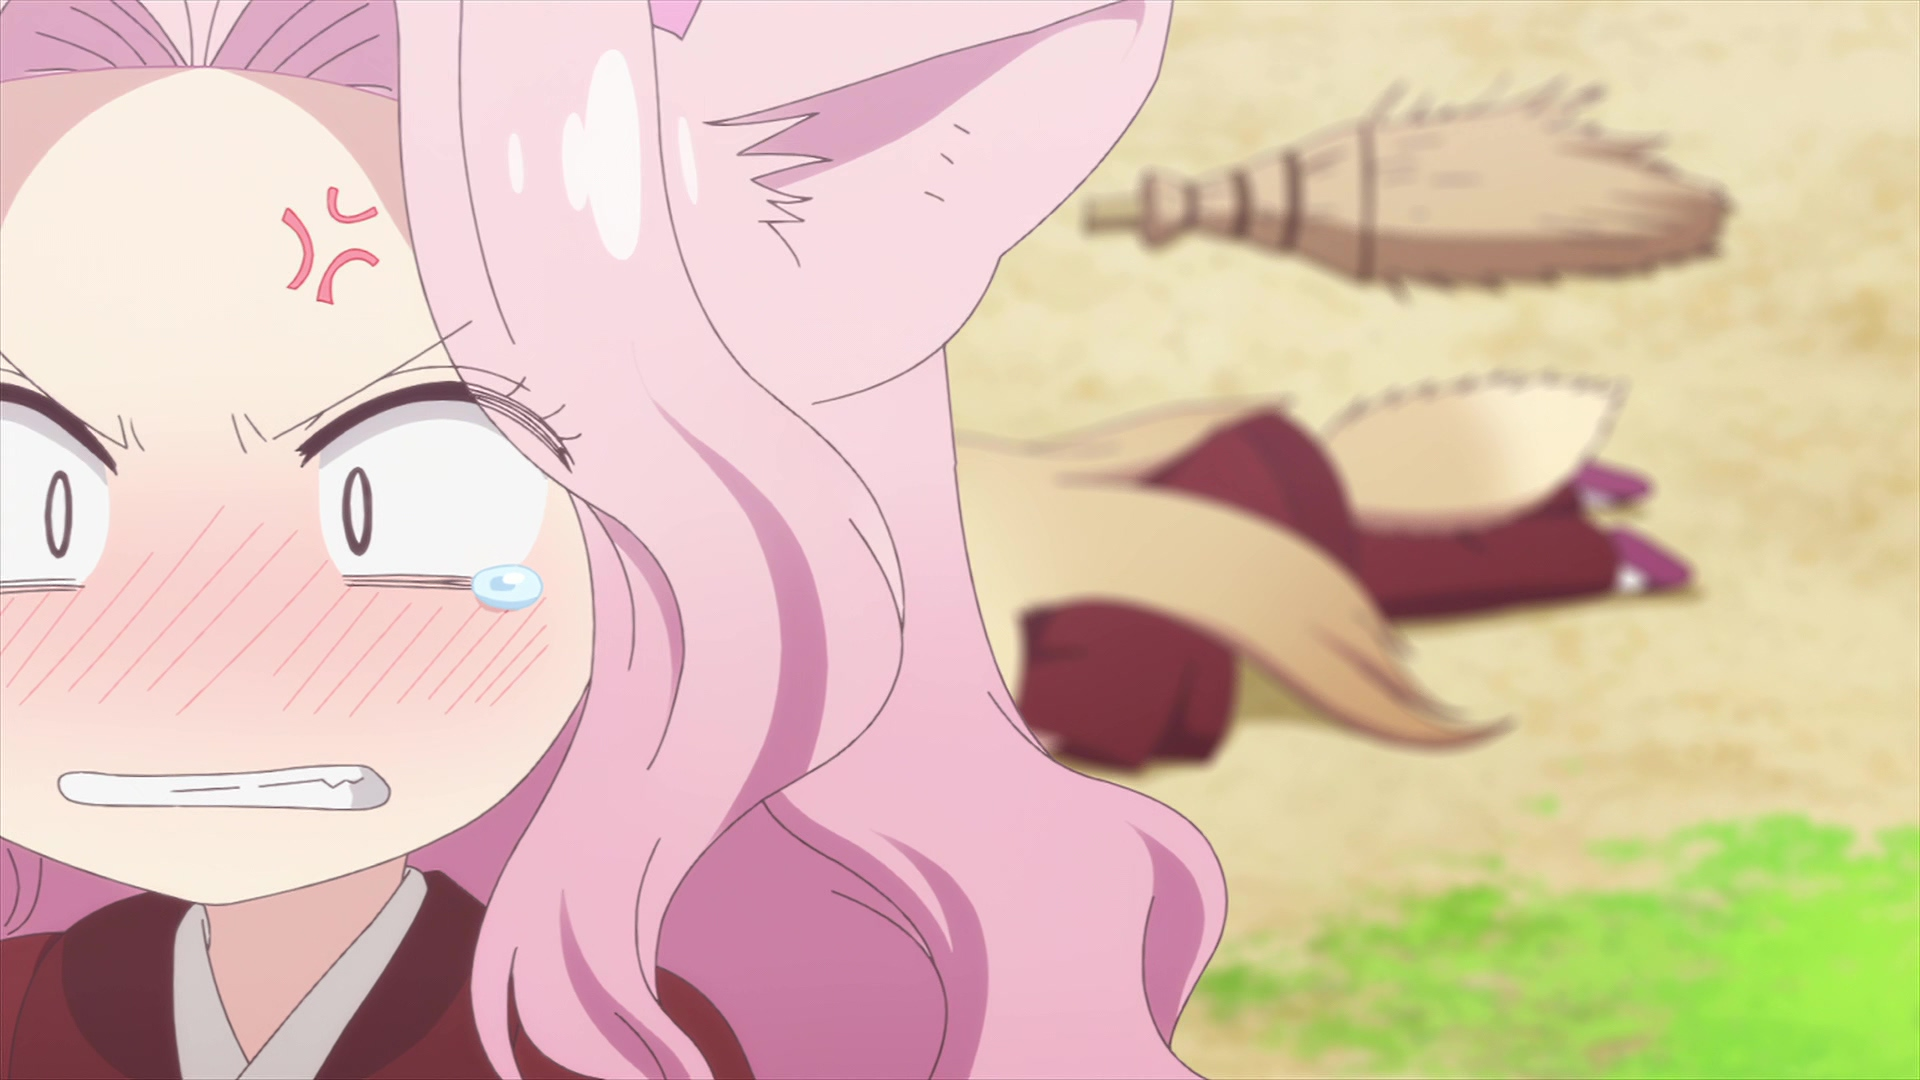柚: (952, 368, 1698, 781)
莲: (1, 1, 1230, 1080)
